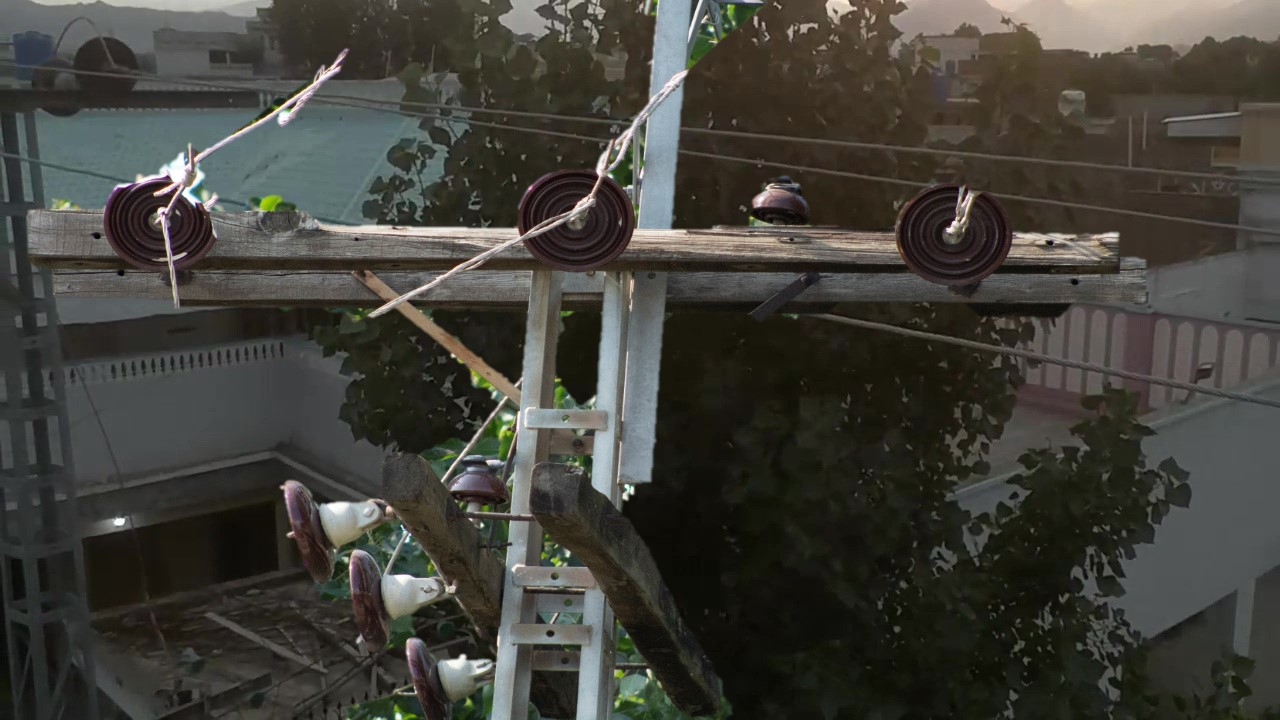defect_disc: (98, 160, 227, 279)
insulator_disc: (894, 173, 1014, 292), (518, 164, 639, 272), (277, 467, 345, 589), (395, 637, 491, 706), (346, 553, 403, 653)
insulator_pin: (744, 167, 816, 227), (444, 450, 512, 510)
